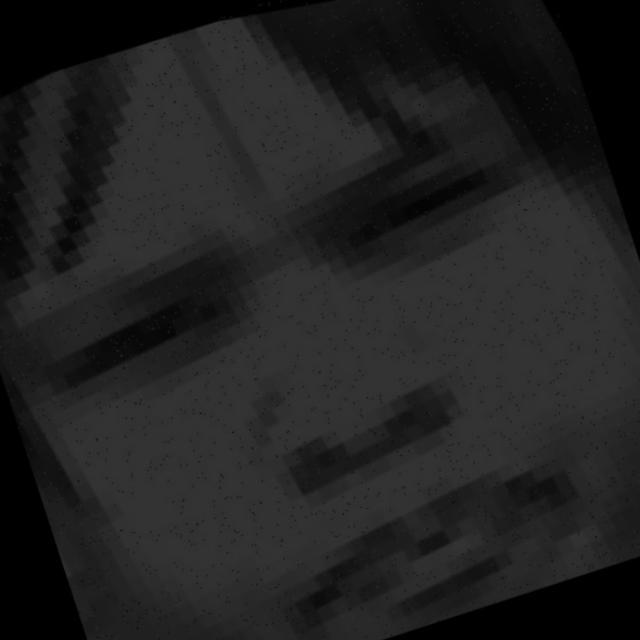Disgust: (39, 87, 577, 640)
